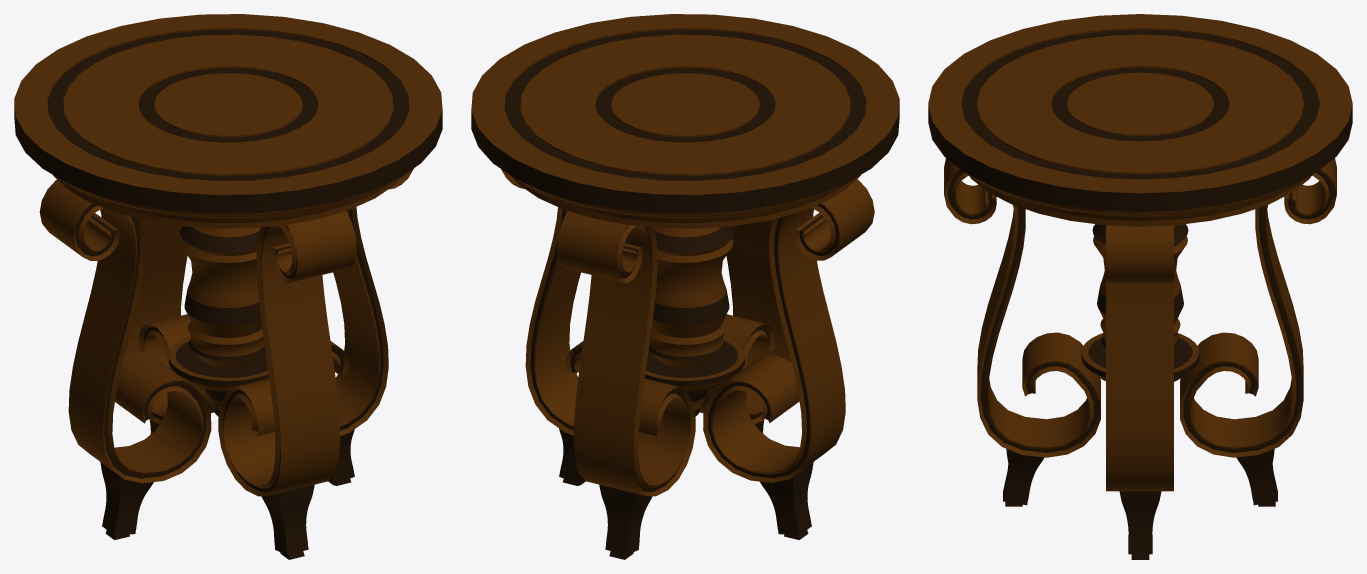
The model's file is fancy little table.fbx.
3 views of the same model, side by side, from view 1: azimuth 30°, elevation 25°; view 2: azimuth 150°, elevation 25°; view 3: azimuth 270°, elevation 25° (orthographic).
Visible parts, largest first — view 1: fancy little table; view 2: fancy little table; view 3: fancy little table.
Part boxes in pixels (x1,y1,x2,y2): fancy little table: (14,14,442,559); fancy little table: (471,14,899,559); fancy little table: (928,14,1352,559).
Bounding box in the file's own units: 276 × 286 × 276.
